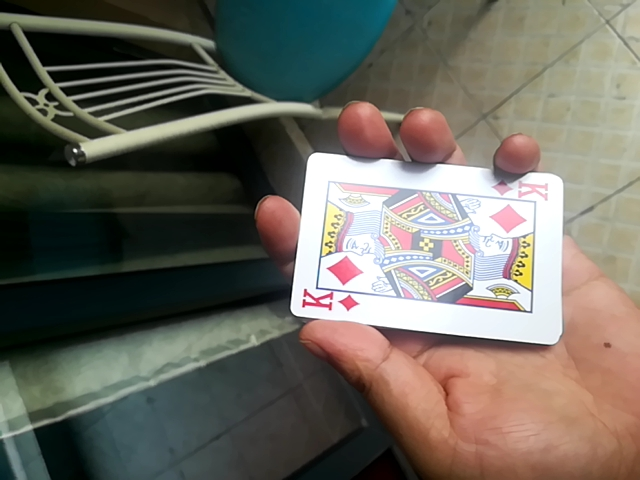fk k: (289, 154, 566, 342)
